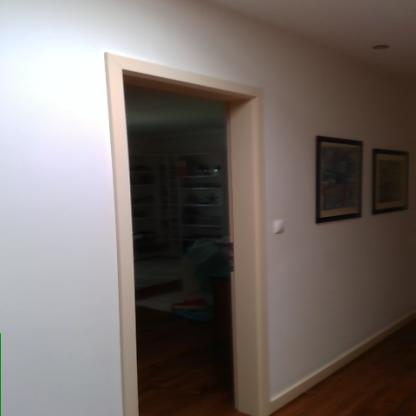open: (89, 46, 287, 416)
